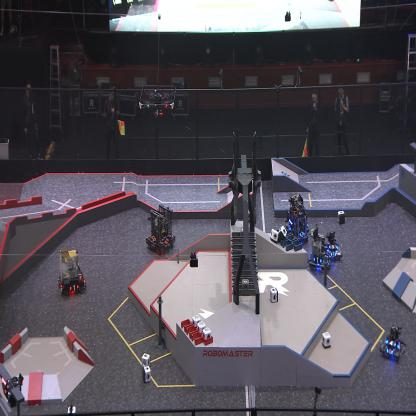car: (145, 204, 176, 252), (56, 248, 86, 296), (286, 195, 310, 246), (308, 225, 332, 272), (379, 326, 406, 358), (325, 230, 344, 262)
